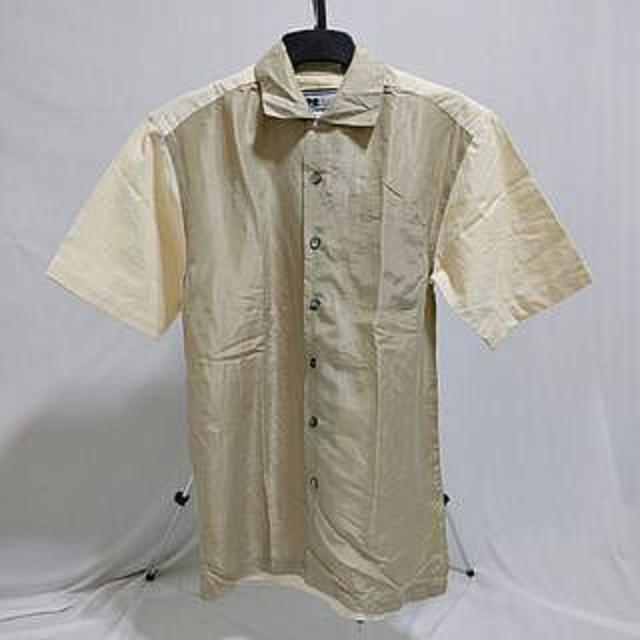SHIRT: (30, 18, 626, 627)
